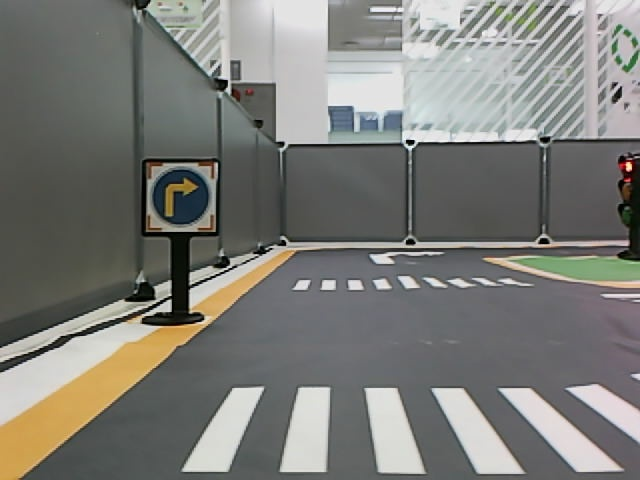crosswalk: (175, 377, 640, 480), (290, 274, 536, 293)
right: (151, 166, 211, 228)
